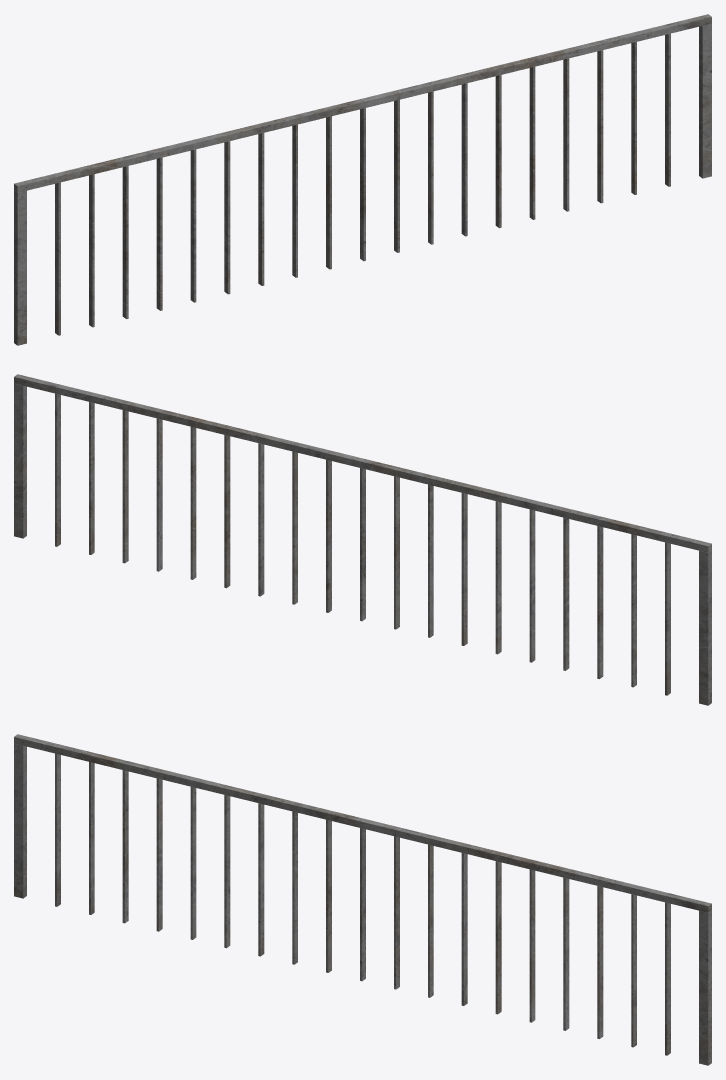
The model's file is Railing.fbx.
3 views of the same model, one above another, from view 1: azimuth 30°, elevation 25°; view 2: azimuth 150°, elevation 25°; view 3: azimuth 330°, elevation 25° (orthographic).
Parts seen in each view (by area): view 1: Railing; view 2: Railing; view 3: Railing.
Boxes of the visible parts, x1=… form: Railing: x1=14, y1=14, x2=711, y2=345; Railing: x1=14, y1=374, x2=711, y2=705; Railing: x1=14, y1=734, x2=711, y2=1065.
Bounding box in the file's own units: 433 × 95 × 4.
